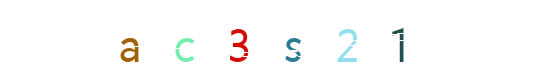1: (302, 0, 382, 80)
2: (240, 0, 320, 80)
3: (200, 0, 280, 80)
A: (93, 0, 173, 80)
C: (194, 0, 274, 80)
S: (239, 0, 319, 80)
